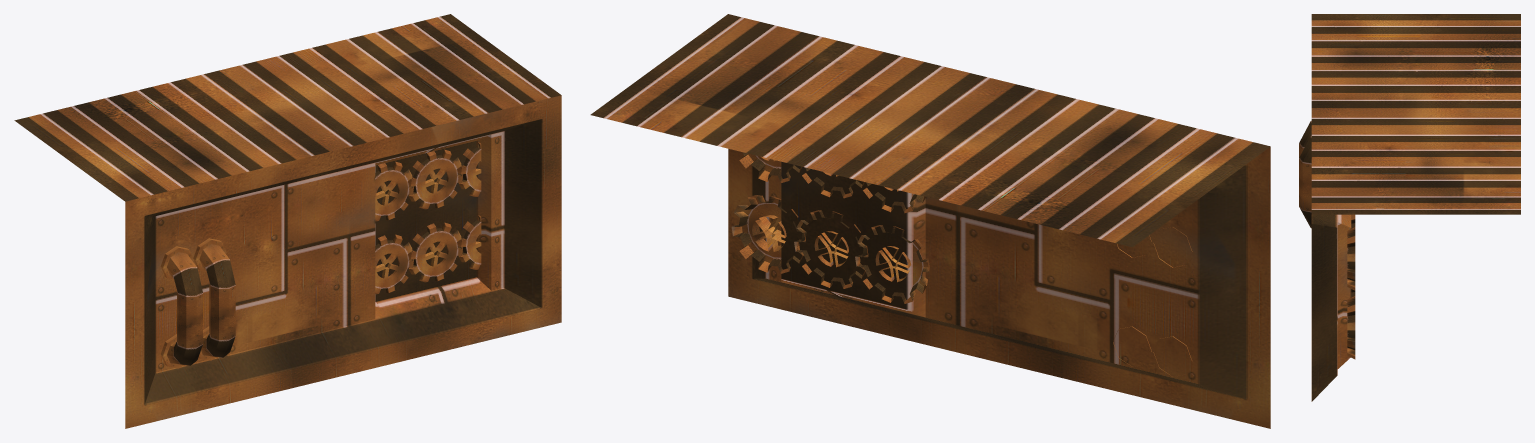
File: floor5.fbx
The picture shows the model from 3 angles, left to right: view 1: azimuth 30°, elevation 25°; view 2: azimuth 150°, elevation 25°; view 3: azimuth 270°, elevation 25°; orthographic projection. The views are drawn at different scales.
Visible parts, largest first — view 1: polySurface1; view 2: polySurface1; view 3: polySurface1.
Boxes of the visible parts, <box> form: polySurface1: <box>14,14,561,428</box>; polySurface1: <box>590,14,1270,428</box>; polySurface1: <box>1299,14,1520,401</box>.
Bounding box in the file's own units: 16 × 7.96 × 7.47.
